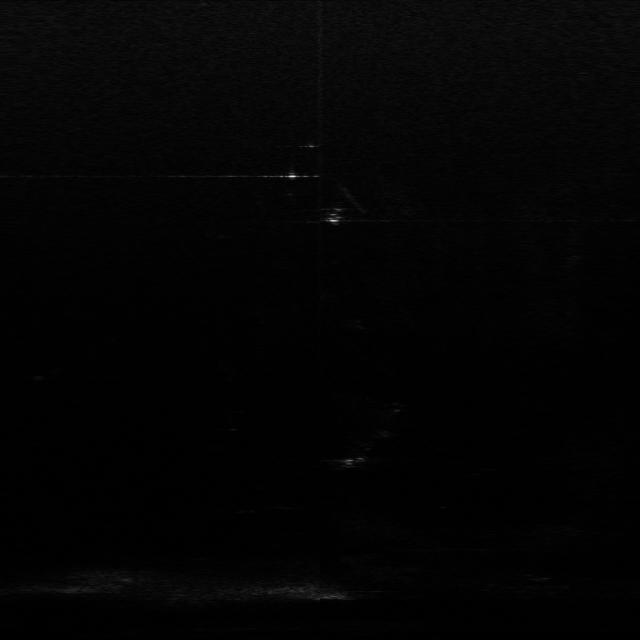rov: (324, 205, 344, 227)
